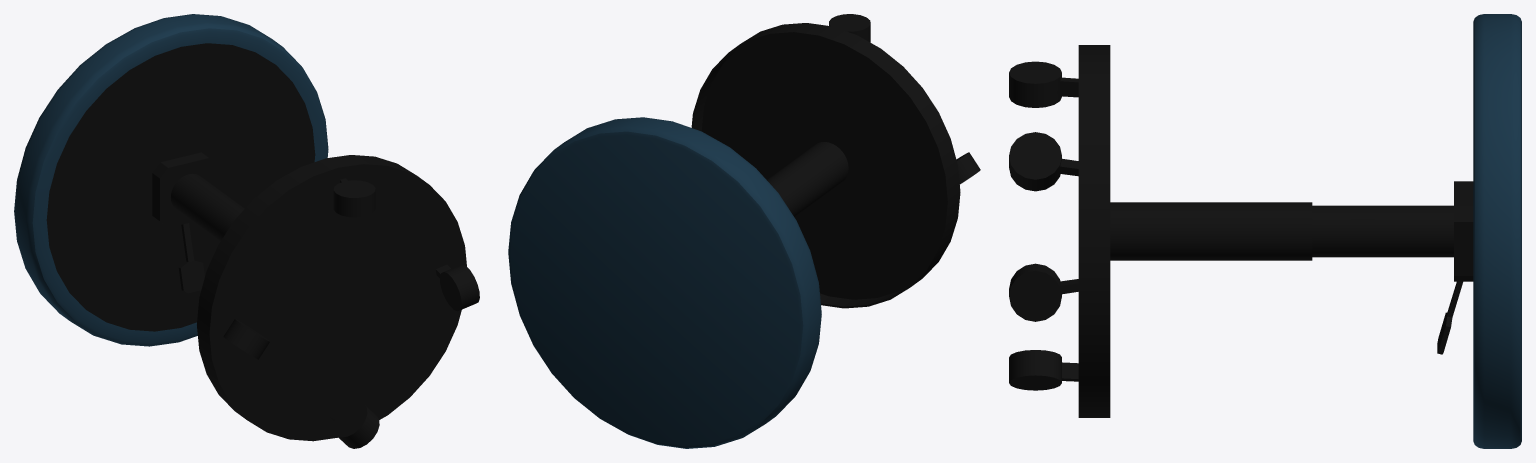
The model's file is SmallChair.fbx.
3 renders of one model, left to right at view 1: azimuth 30°, elevation 25°; view 2: azimuth 150°, elevation 25°; view 3: azimuth 270°, elevation 25°, orthographic. The views are drawn at different scales.
Visible parts, largest first — view 1: SmallChair LOD0; view 2: SmallChair LOD0; view 3: SmallChair LOD0.
Part boxes in pixels (x1=…): SmallChair LOD0: x1=14, y1=14, x2=479, y2=448; SmallChair LOD0: x1=508, y1=14, x2=980, y2=448; SmallChair LOD0: x1=1009, y1=14, x2=1521, y2=448.
Size of what is drawn, in the model's own units: 0.4 by 0.4 by 0.4713.
